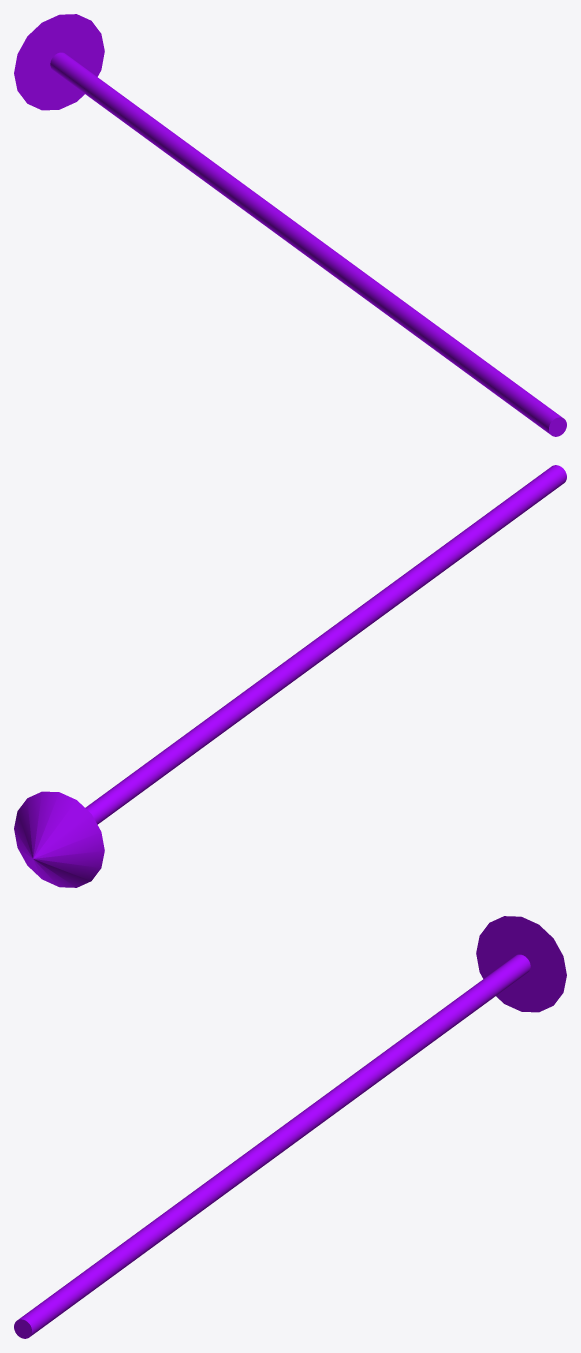
File: sensor_arrow_mag.glb
The picture shows the model from 3 angles, top to bottom: view 1: azimuth 30°, elevation 25°; view 2: azimuth 150°, elevation 25°; view 3: azimuth 330°, elevation 25°; orthographic projection.
Visible parts, largest first — view 1: Cylinder, Cylinder_1; view 2: Cylinder, Cylinder_1; view 3: Cylinder, Cylinder_1.
Part boxes in pixels (x1,y1,x2,y2): Cylinder: (50, 52, 566, 436); Cylinder_1: (14, 14, 104, 110); Cylinder: (85, 465, 566, 824); Cylinder_1: (14, 791, 104, 887); Cylinder: (14, 954, 530, 1338); Cylinder_1: (476, 916, 566, 1012).
Bounding box in the file's own units: 0.1 × 0.1 × 1.
